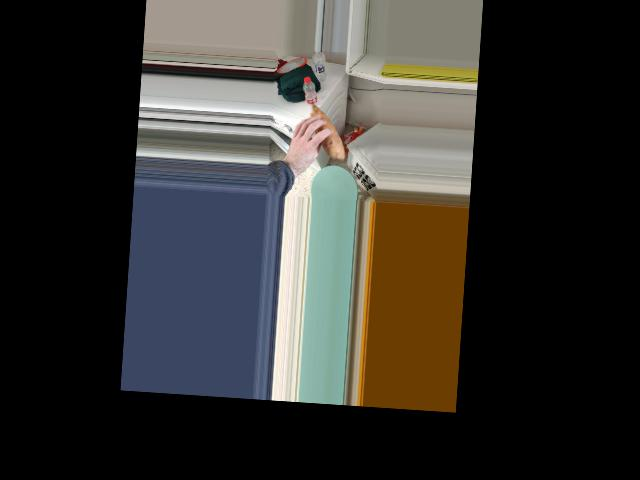sweet_potato: (301, 105, 347, 152)
